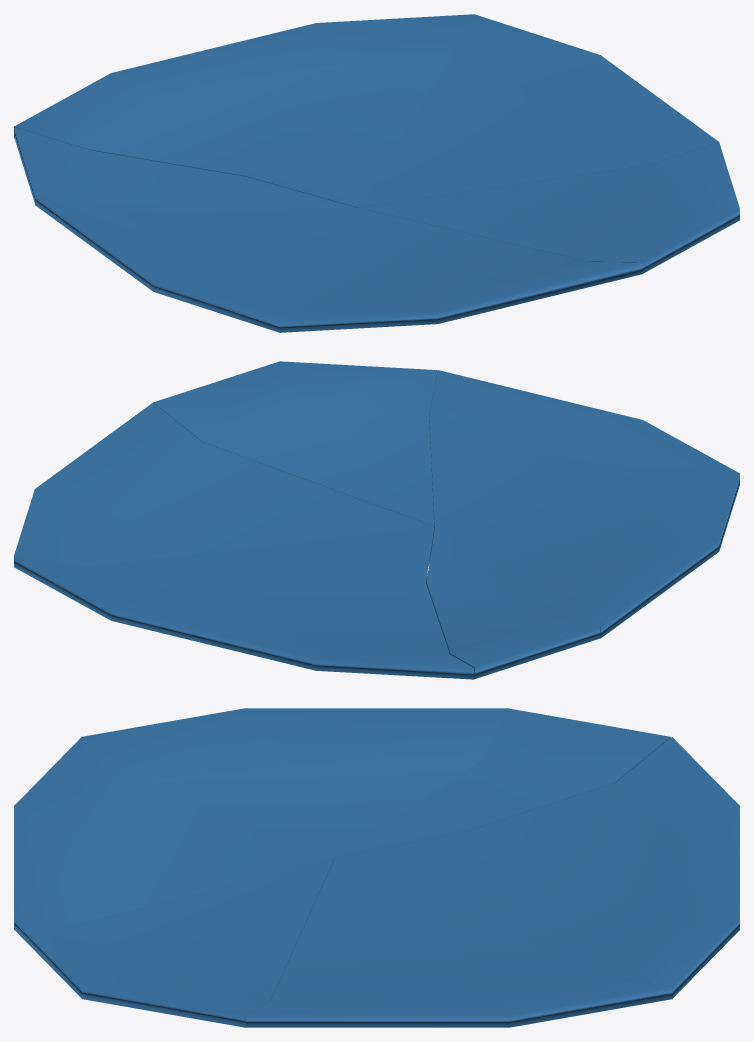
Rendered from plato01Roto.fbx.
3 renders of one model, top to bottom at view 1: azimuth 30°, elevation 25°; view 2: azimuth 150°, elevation 25°; view 3: azimuth 270°, elevation 25°, orthographic. The views are drawn at different scales.
Visible parts, largest first — view 1: plato05, plato03, plato06, plato07, plato04; view 2: plato03, plato05, plato06, plato07, plato04; view 3: plato03, plato05, plato06, plato07, plato04.
Boxes of the visible parts, x1,y1,x2,y2 form: plato05: (14, 14, 473, 207); plato03: (35, 194, 642, 332); plato06: (358, 14, 718, 207); plato07: (358, 142, 739, 273); plato04: (14, 127, 358, 208); plato03: (429, 370, 739, 638); plato05: (14, 526, 474, 679); plato06: (14, 402, 433, 567); plato07: (153, 361, 437, 526); plato04: (426, 526, 600, 678); plato03: (14, 708, 506, 929); plato05: (334, 737, 739, 998); plato06: (246, 859, 672, 1027); plato07: (14, 859, 333, 1027); plato04: (334, 708, 670, 859).
Bounding box in the file's own units: 0.25 × 0.0119 × 0.2501.
